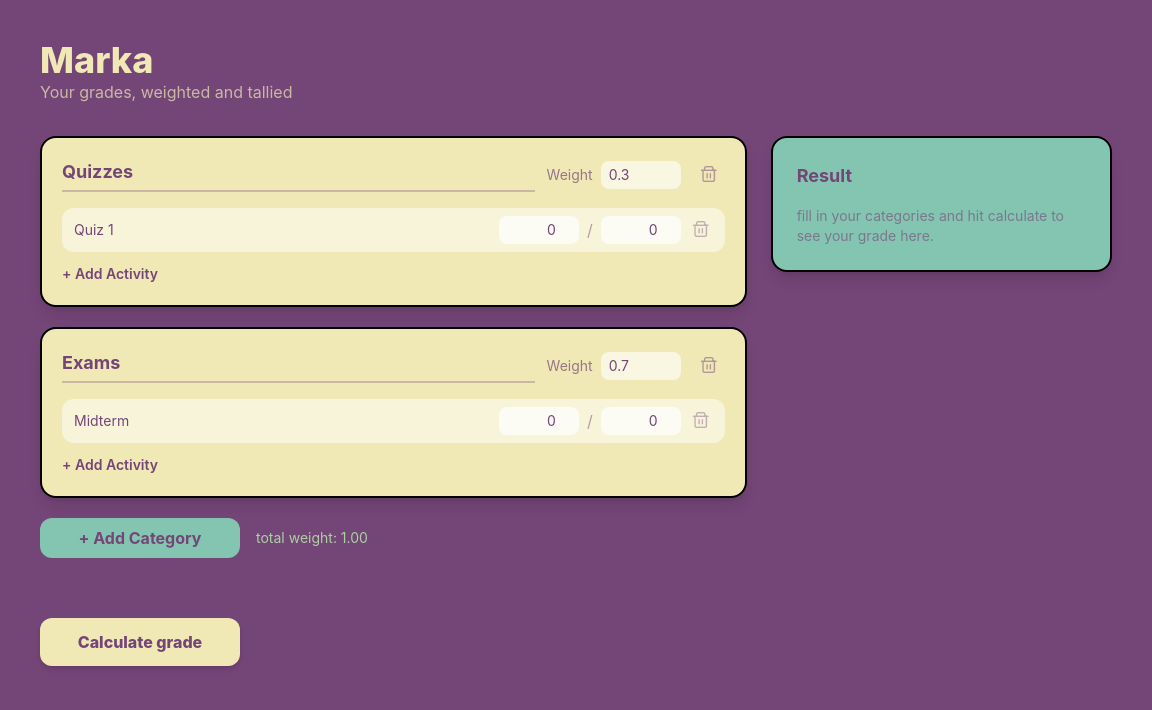
Test: App › adds a category when '+ Add Category' is clicked
Step 1. Click the button "+ Add Category" → x=140, y=538, box [40,518,240,558]
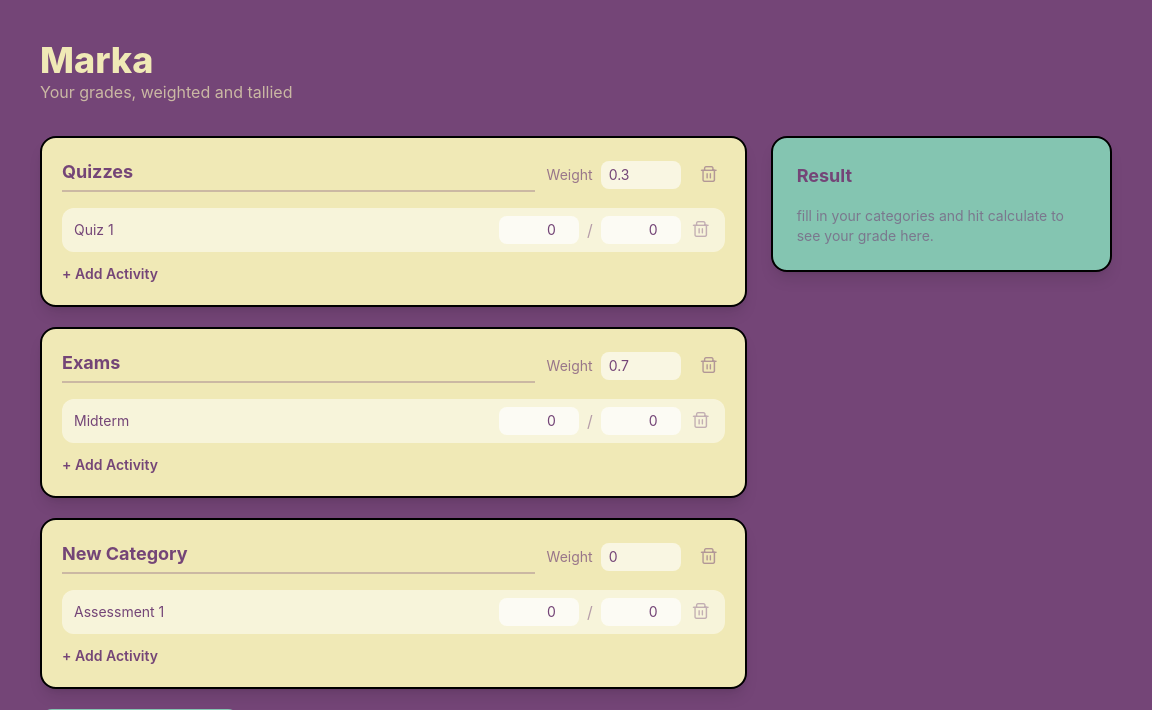
Now the number of fields with placeholder "Category name" is 3, box [62,158,535,192]; [62,349,535,383]; [62,540,535,574]
